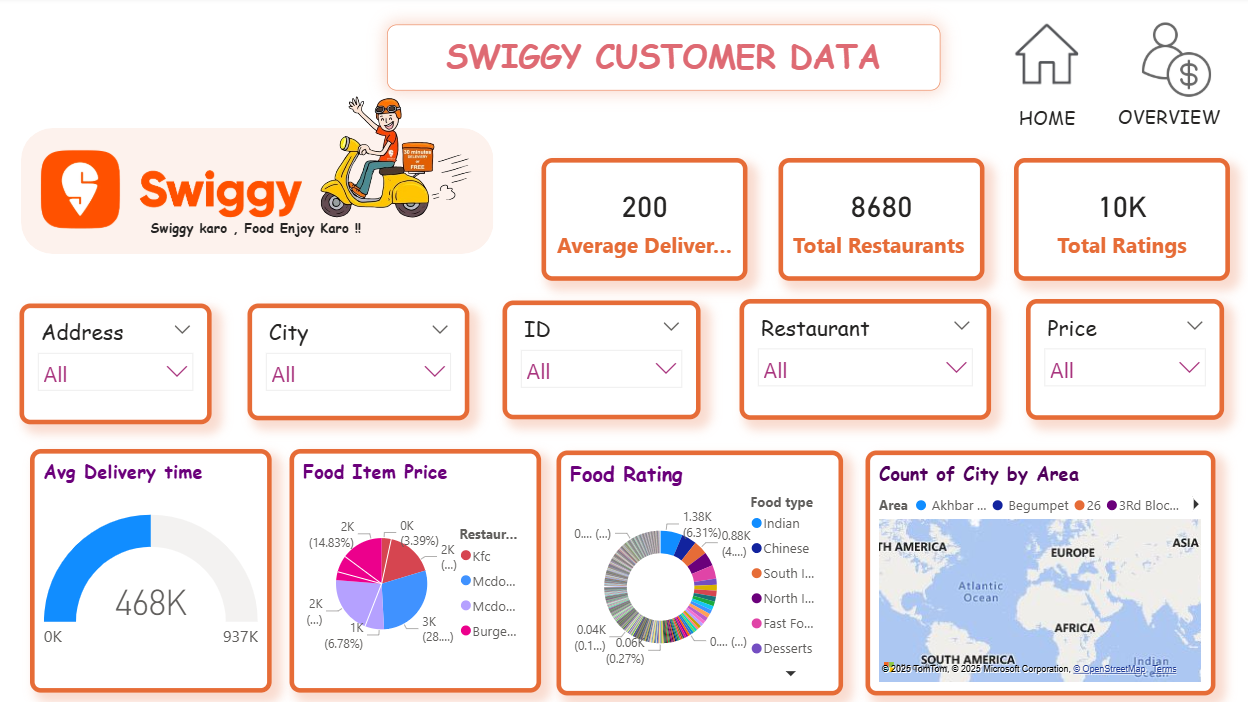

The dashboard page shown, as its layout file describes it:
{"tool":"powerbi","page":{"name":"Home Page ","canvas":[1280,720],"ordinal":1},"visuals":[{"type":"map","title":"Count of City by Area ","fields":{"Series":["swiggy.Area"],"Y":["swiggy.City"],"Size":["CountNonNull(swiggy.City)"]},"box":[886.3,459.2,353.4,247.6],"z":0},{"type":"donutChart","title":"Food Rating","fields":{"Category":["swiggy.Food type"],"Y":["Sum(swiggy.Avg ratings)"]},"box":[574.5,459.2,289.1,247.6],"z":1000},{"type":"slicer","title":"Food Rating","fields":{"Values":["swiggy.Restaurant"]},"box":[758,306,254,122],"z":2000},{"type":"slicer","title":"Food Rating","fields":{"Values":["swiggy.City"]},"box":[262,310,224,118],"z":3000},{"type":"slicer","title":"Food Rating","fields":{"Values":["swiggy.Address"]},"box":[32,310,194,122],"z":4000},{"type":"slicer","title":"Food Rating","fields":{"Values":["swiggy.ID"]},"box":[520,308,200,120],"z":5000},{"type":"slicer","title":"Food Rating","fields":{"Values":["swiggy.Price"]},"box":[1048,306,200,122],"z":6000},{"type":"textbox","box":[402.8,28.8,558.7,66.6],"z":7000},{"type":"card","title":"Food Rating","fields":{"Values":["swiggy.Count of Restaurant running total in Restaurant"]},"box":[798,164,208,124],"z":8000},{"type":"card","title":"Food Rating","fields":{"Values":["Max(swiggy.Total ratings)"]},"box":[1036,164,218,124],"z":9000},{"type":"shape","box":[33.3,133.3,477,127.2],"z":10000},{"type":"image","box":[31.7,148.3,306.7,95],"z":11000},{"type":"image","box":[285,78.3,210,170],"z":12000},{"type":"image","box":[1026.7,24,165.3,88.7],"z":13000},{"type":"textbox","box":[158.3,220,250,38.3],"z":14000},{"type":"image","box":[1148,24,103.3,80],"z":15000},{"type":"textbox","box":[168,230,57.3,38],"z":16000},{"type":"textbox","box":[1015.3,95.3,108.7,34],"z":17000},{"type":"textbox","box":[1036.2,103.8,80,37.5],"z":18000},{"type":"textbox","box":[1135.7,102.9,127.1,37.1],"z":19000},{"type":"card","title":"Food Rating","fields":{"Values":["swiggy.Delivery time average per Address"]},"box":[558,164,208,124],"z":20000},{"type":"gauge","title":"Avg Delivery time","fields":{"Y":["Sum(swiggy.Delivery time)"]},"box":[42,458,244,246],"z":21000},{"type":"pieChart","title":"Food Item Price","fields":{"Category":["swiggy.Restaurant"],"Y":["Sum(swiggy.Price)"],"Series":["swiggy.Food type"]},"box":[304,458,254,246],"z":22000}]}

Visuals, with their boxes in screenshot pixels (x1, y1, x2, y2), scaled from the page's 1280x720 canvas onto the 1248x702 screenshot:
"Count of City by Area " map: <bbox>864, 448, 1209, 689</bbox>
"Food Rating" donutChart: <bbox>560, 448, 842, 689</bbox>
"Food Rating" slicer: <bbox>739, 298, 987, 417</bbox>
"Food Rating" slicer: <bbox>255, 302, 474, 417</bbox>
"Food Rating" slicer: <bbox>31, 302, 220, 421</bbox>
"Food Rating" slicer: <bbox>507, 300, 702, 417</bbox>
"Food Rating" slicer: <bbox>1022, 298, 1217, 417</bbox>
textbox: <bbox>393, 28, 937, 93</bbox>
"Food Rating" card: <bbox>778, 160, 981, 281</bbox>
"Food Rating" card: <bbox>1010, 160, 1223, 281</bbox>
shape: <bbox>32, 130, 498, 254</bbox>
image: <bbox>31, 145, 330, 237</bbox>
image: <bbox>278, 76, 483, 242</bbox>
image: <bbox>1001, 23, 1162, 110</bbox>
textbox: <bbox>154, 214, 398, 252</bbox>
image: <bbox>1119, 23, 1220, 101</bbox>
textbox: <bbox>164, 224, 220, 261</bbox>
textbox: <bbox>990, 93, 1096, 126</bbox>
textbox: <bbox>1010, 101, 1088, 138</bbox>
textbox: <bbox>1107, 100, 1231, 136</bbox>
"Food Rating" card: <bbox>544, 160, 747, 281</bbox>
"Avg Delivery time" gauge: <bbox>41, 447, 279, 686</bbox>
"Food Item Price" pieChart: <bbox>296, 447, 544, 686</bbox>
